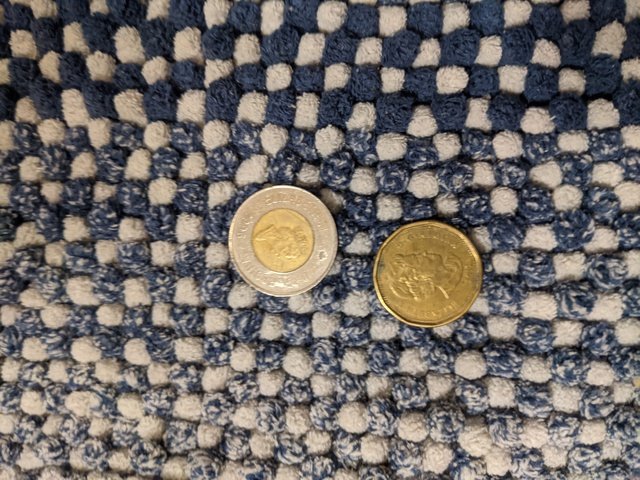loonie: (373, 201, 484, 328)
twonie: (210, 175, 339, 302)
